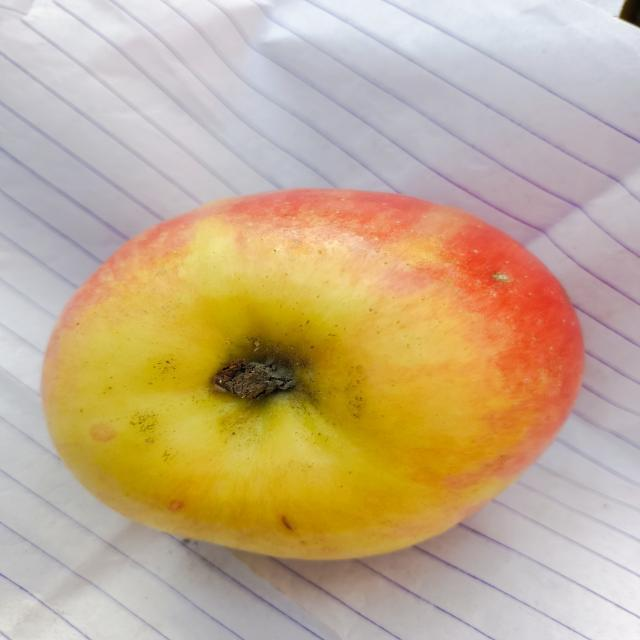Fresh Apple: (41, 191, 582, 568)
